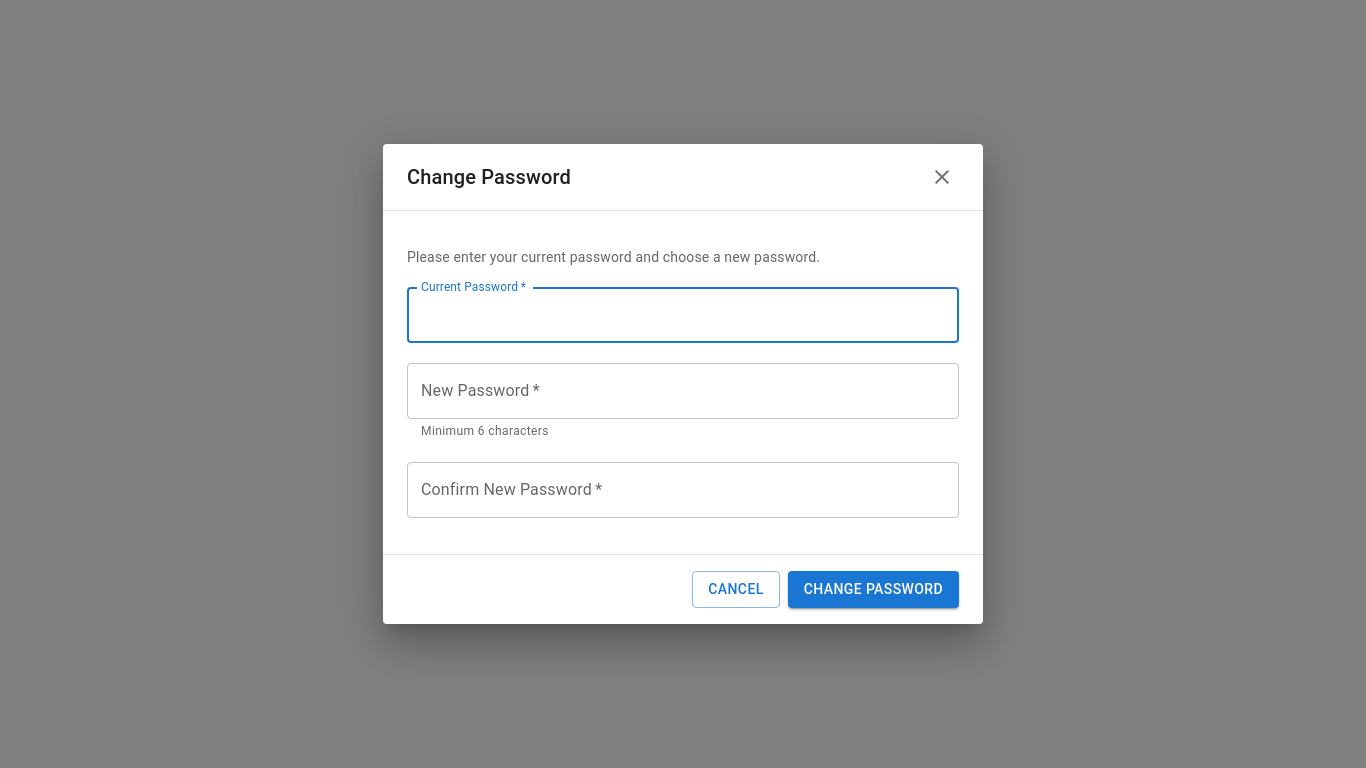
Test case: ChangePasswordModal › Form Interactions › clears error when typing in confirm password field
The image size is (1366, 768).
// Fill fields to trigger mismatch error
Type "currentpass" into the password field labelled "Current Password *" at (683, 315), box x1=407 y1=287 x2=959 y2=343
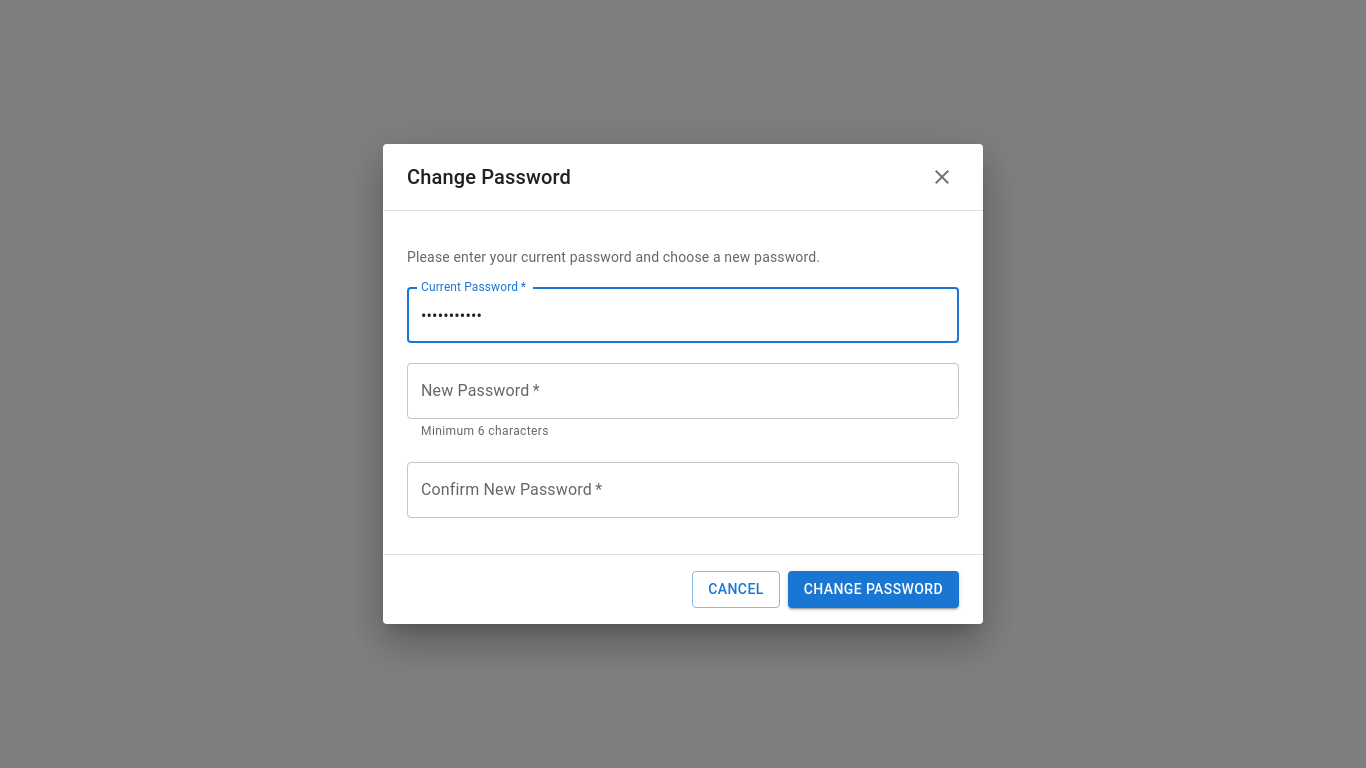
Type "newpassword" into the password field labelled "New Password *" at (683, 391), box x1=407 y1=363 x2=959 y2=419
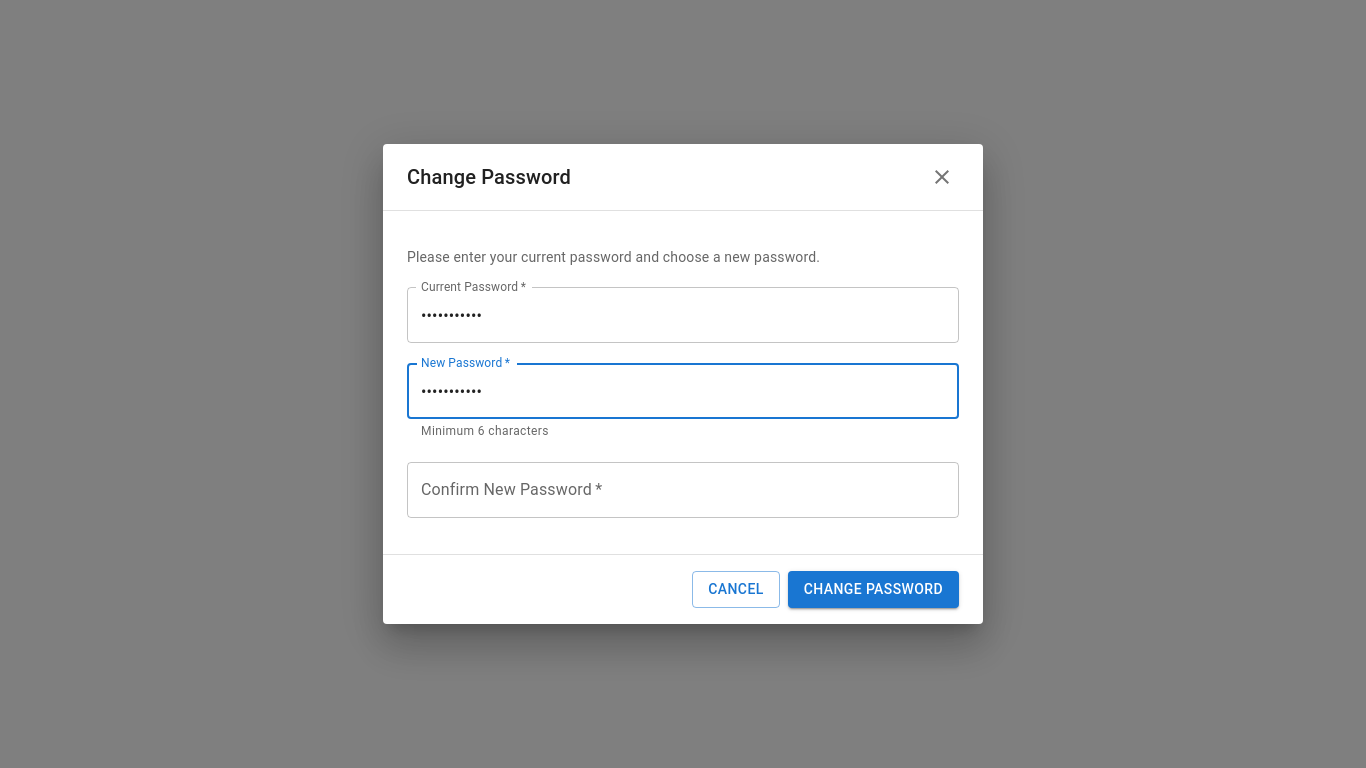
Type "different" into the password field labelled "Confirm New Password *" at (683, 490), box x1=407 y1=462 x2=959 y2=518
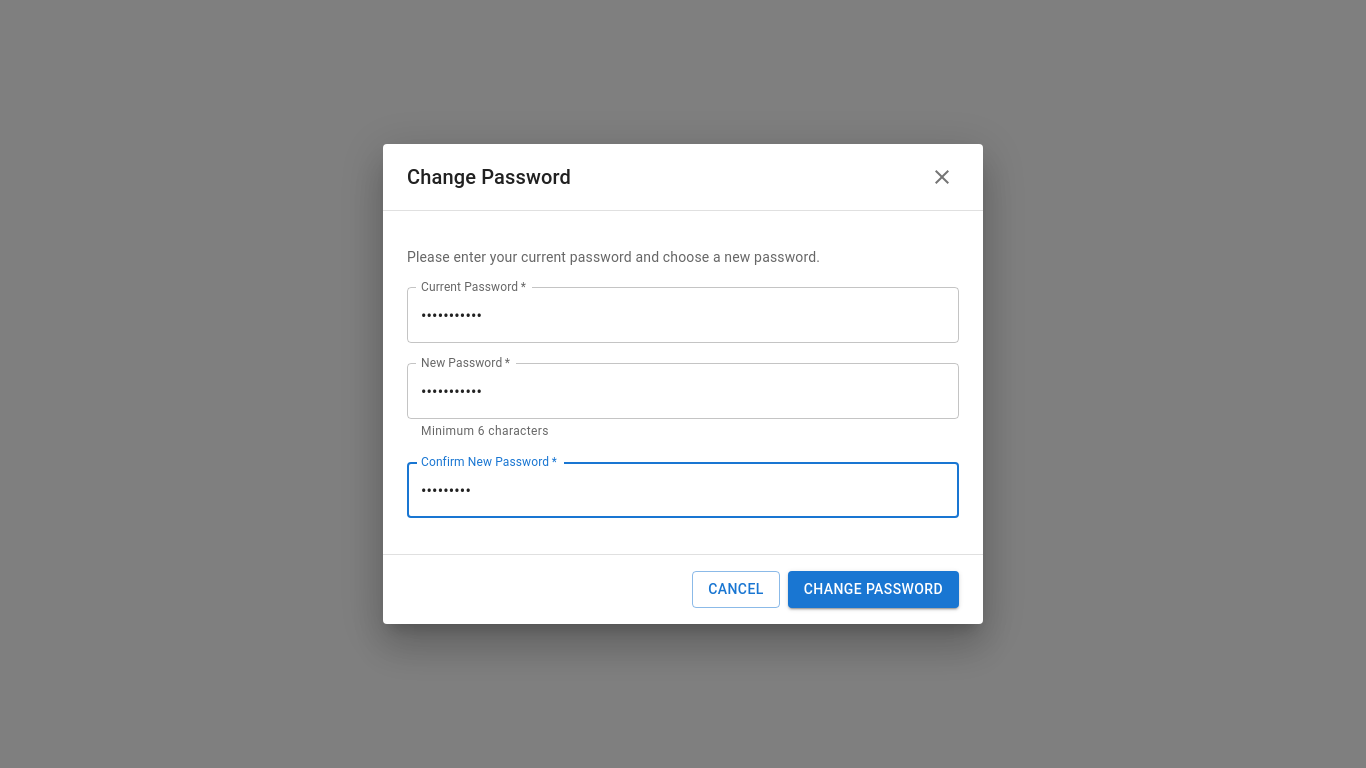
Click the button "Change Password" at (873, 589), box x1=788 y1=571 x2=959 y2=608
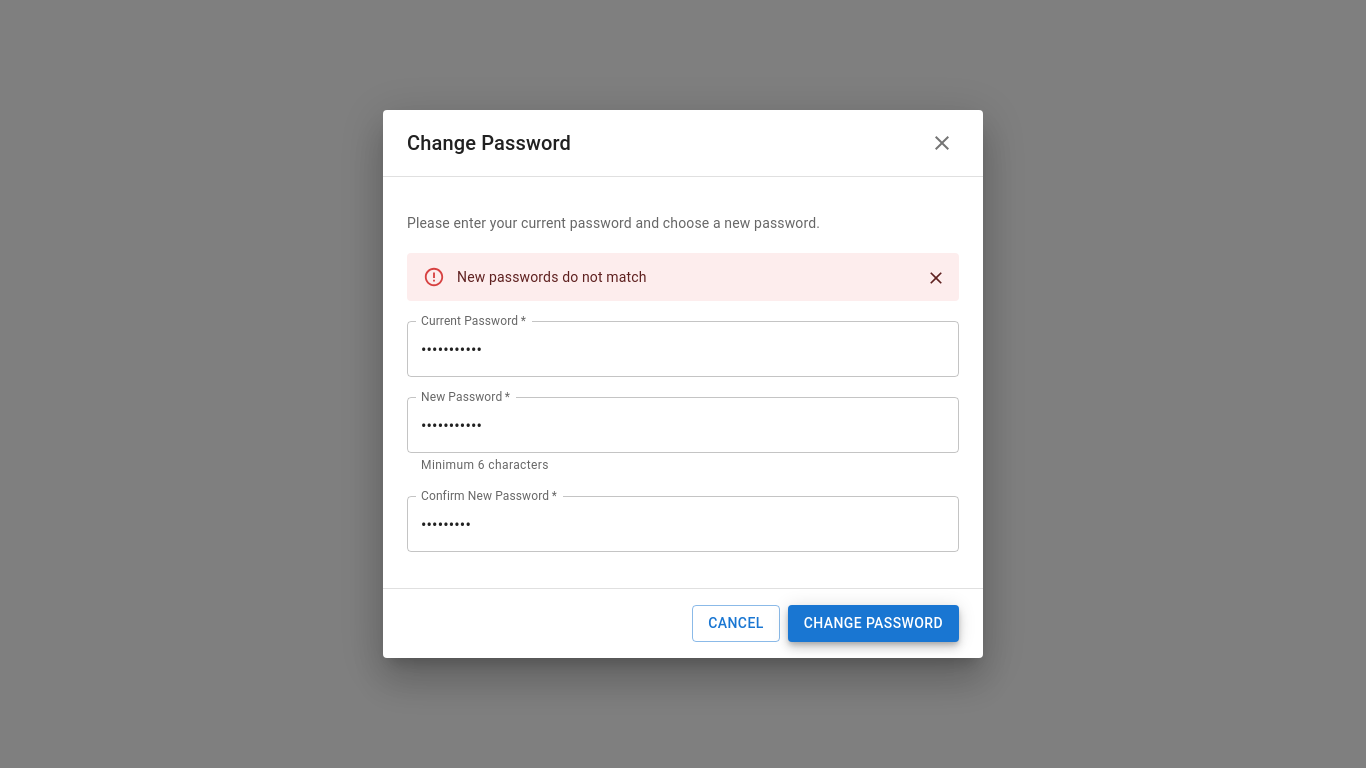
Now the text "New passwords do not match" is shown, box x1=457 y1=269 x2=647 y2=285
// Type in confirm field to clear error
Type "x" into the password field labelled "Confirm New Password *" at (683, 524), box x1=407 y1=496 x2=959 y2=552
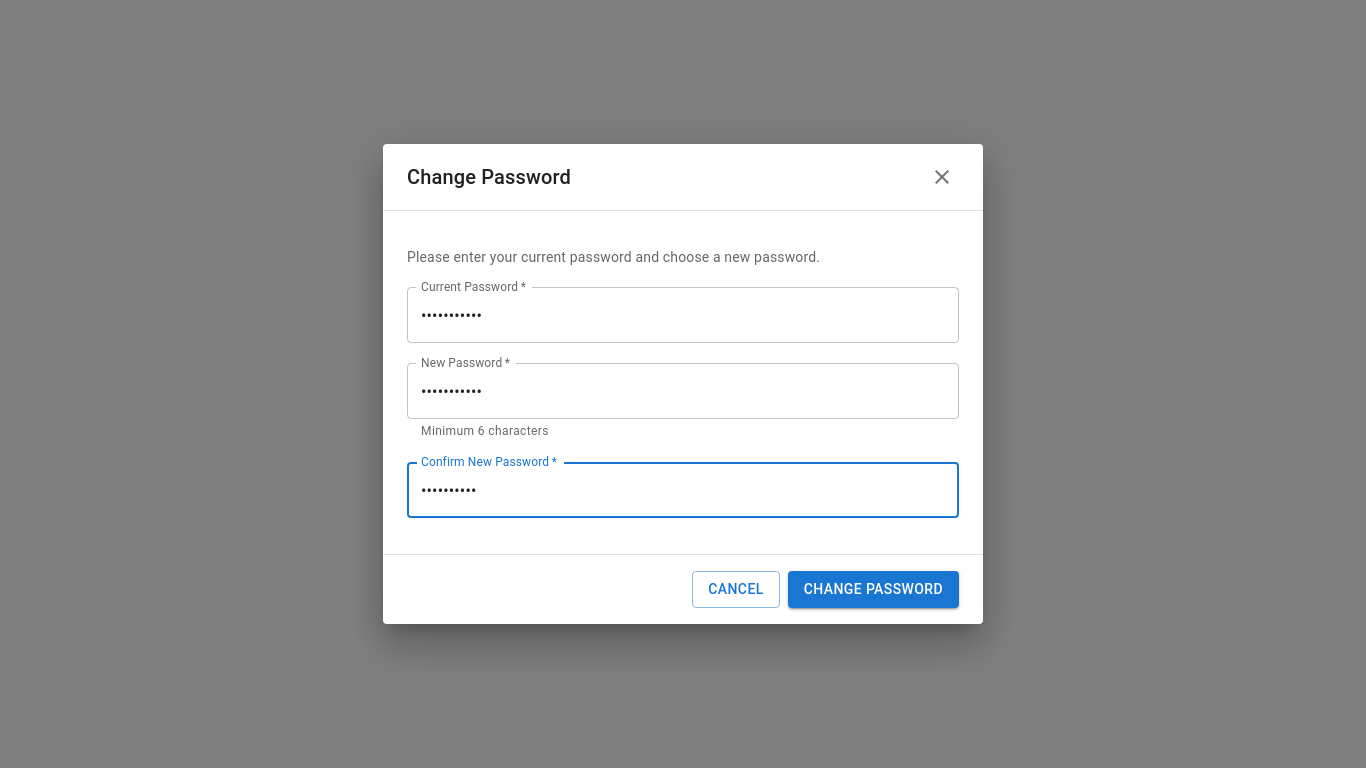
Now the text "New passwords do not match" is gone
